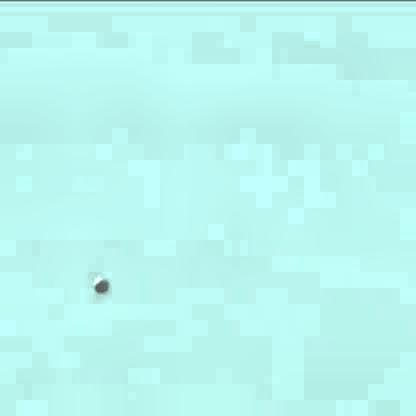golfball: (90, 273, 108, 291)
